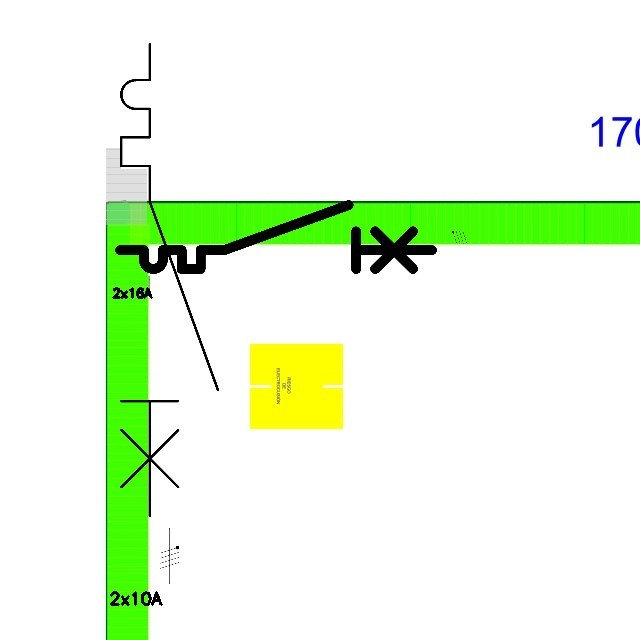interruptor_termomagnetico: (109, 32, 230, 528), (112, 197, 440, 277)
